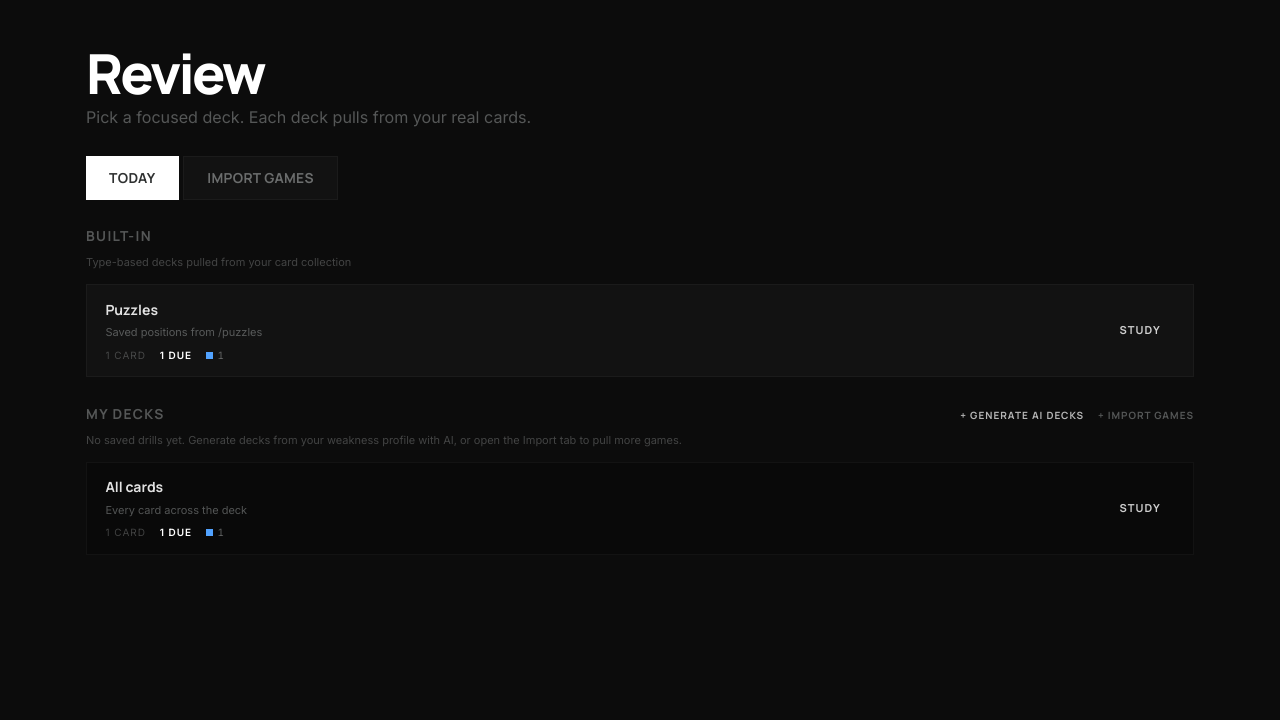
Scenario: ReviewPage - deck browser (Today tab default view) › opening a deck sets ?deck=<id> in the URL; closing it clears the param
This screenshot has width=1280, height=720.
Click the 1st button "Study" at (1140, 331), box [1106,316,1175,346]
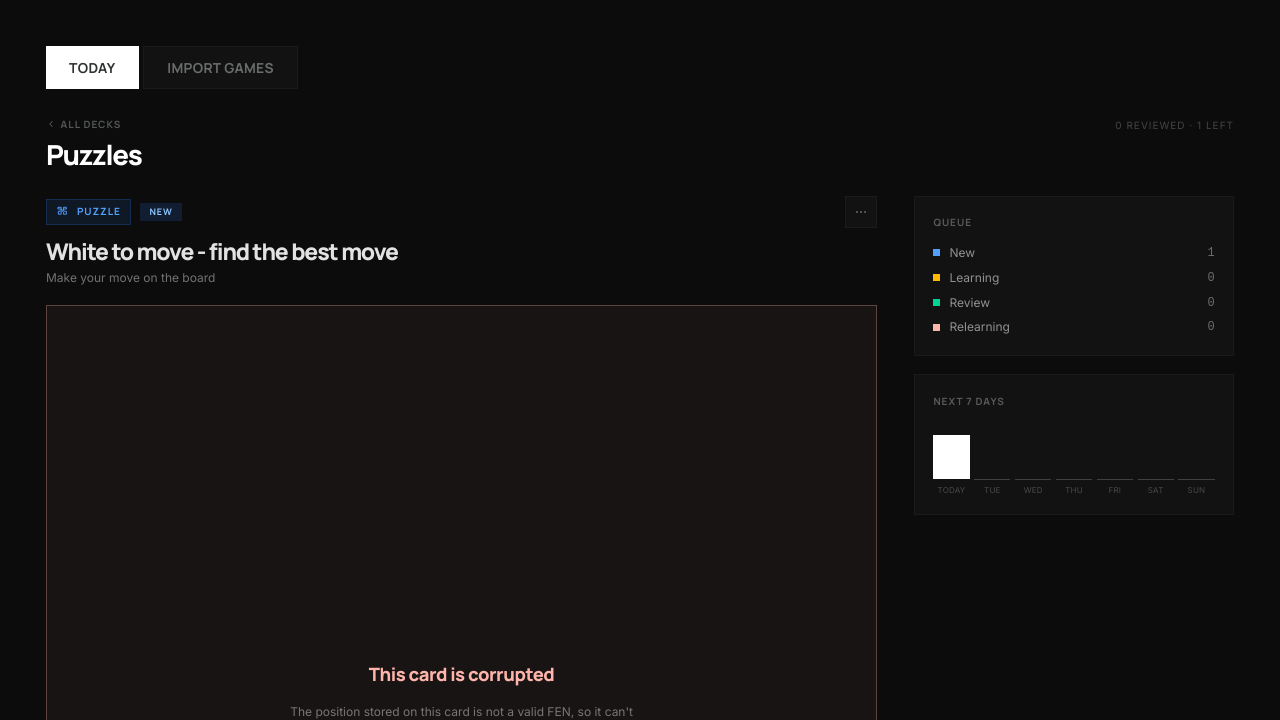
expect the button "All decks" is shown: met
Click the button "All decks" at (84, 124), box [46,117,121,132]
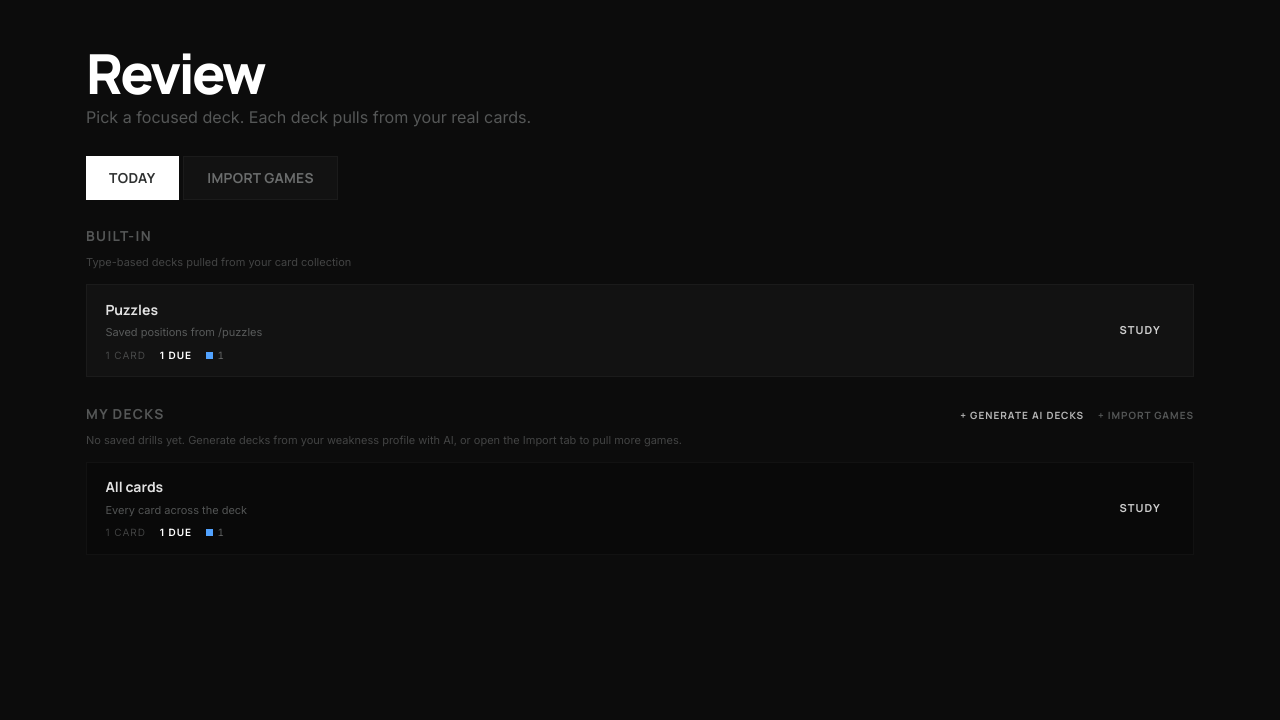
expect the button "All decks" is gone: met
expect the heading "Built-in" is shown: met, box [86,227,152,246]
